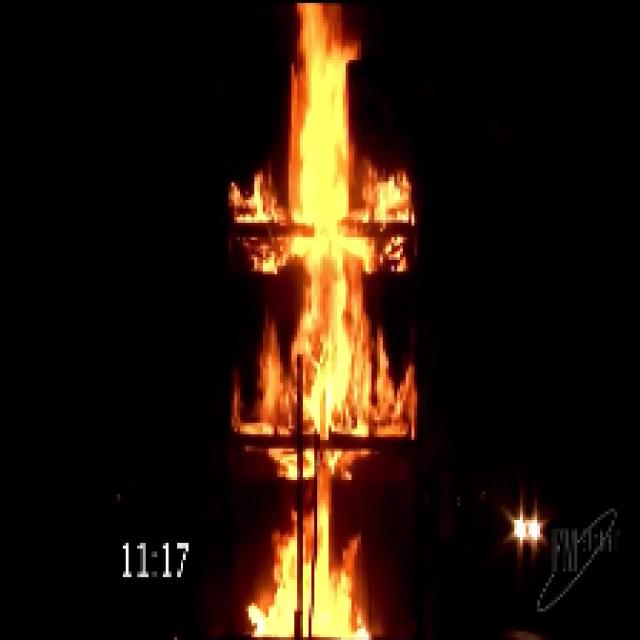fire: (268, 8, 384, 632)
